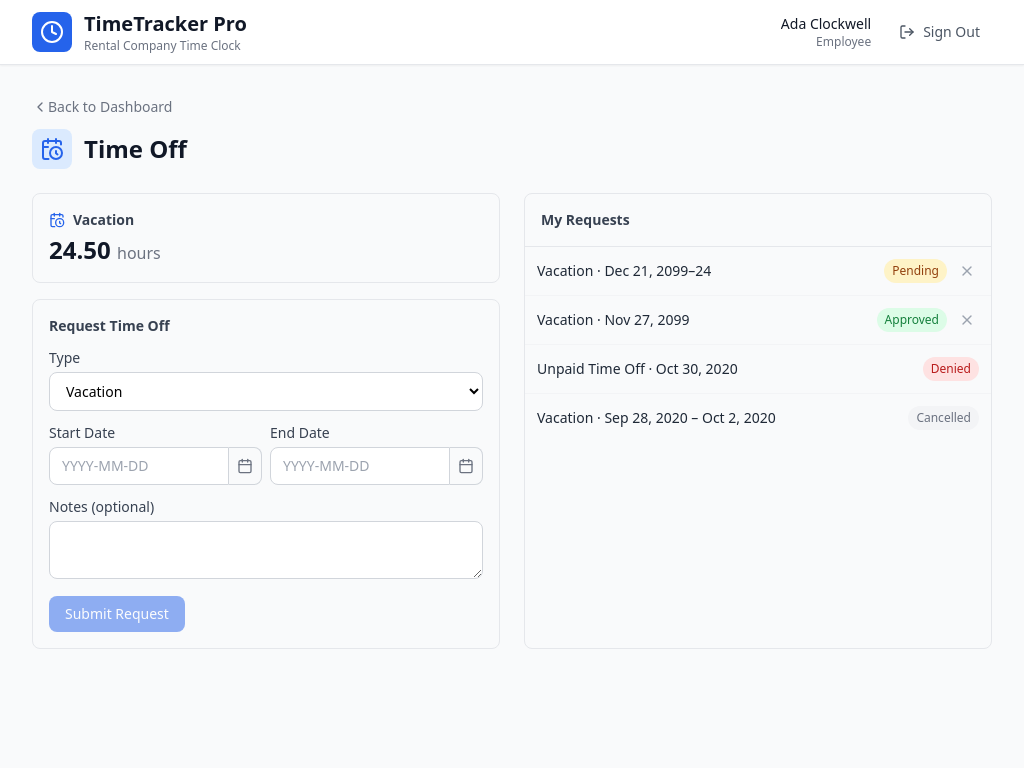
Test: Time Off page › a refused request shows the server’s reason and keeps what was entered
Expected: the text "24.50" is shown, [49,233,111,266]
Type "2099-09-14" into the field labelled "Start Date". click: (139, 466)
box: [49,447,229,485]
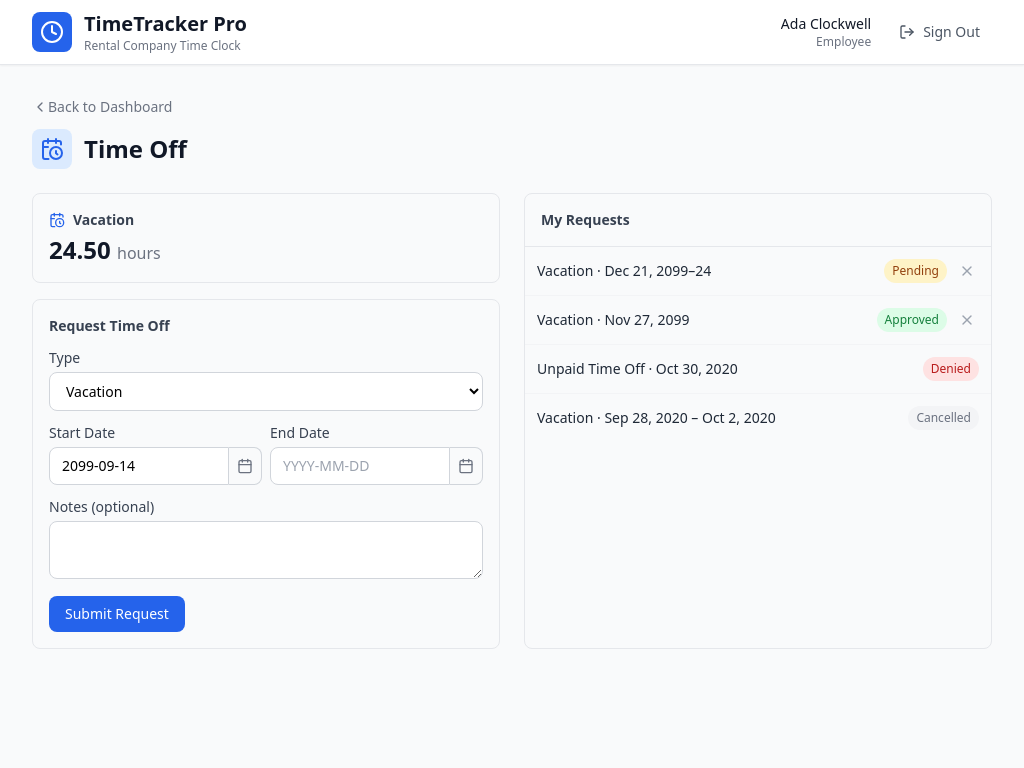
Click the button "Submit Request". click: (117, 614)
box: [49,596,185,632]
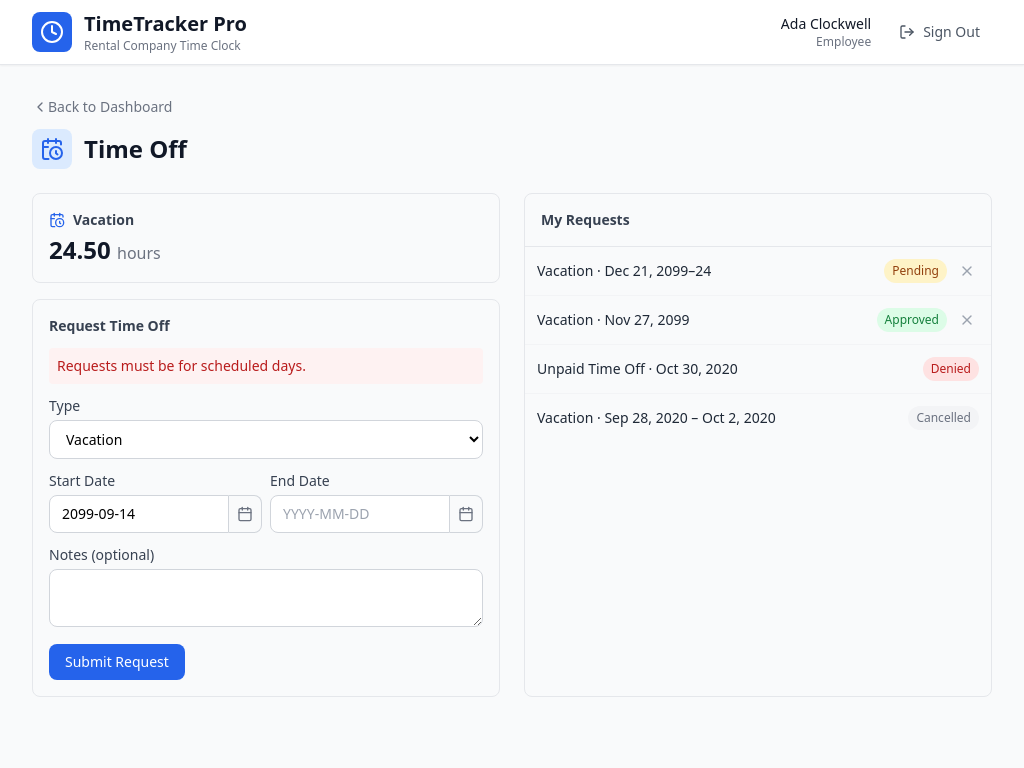
Expected: the text "Requests must be for scheduled days." is shown, [49,348,483,384]
